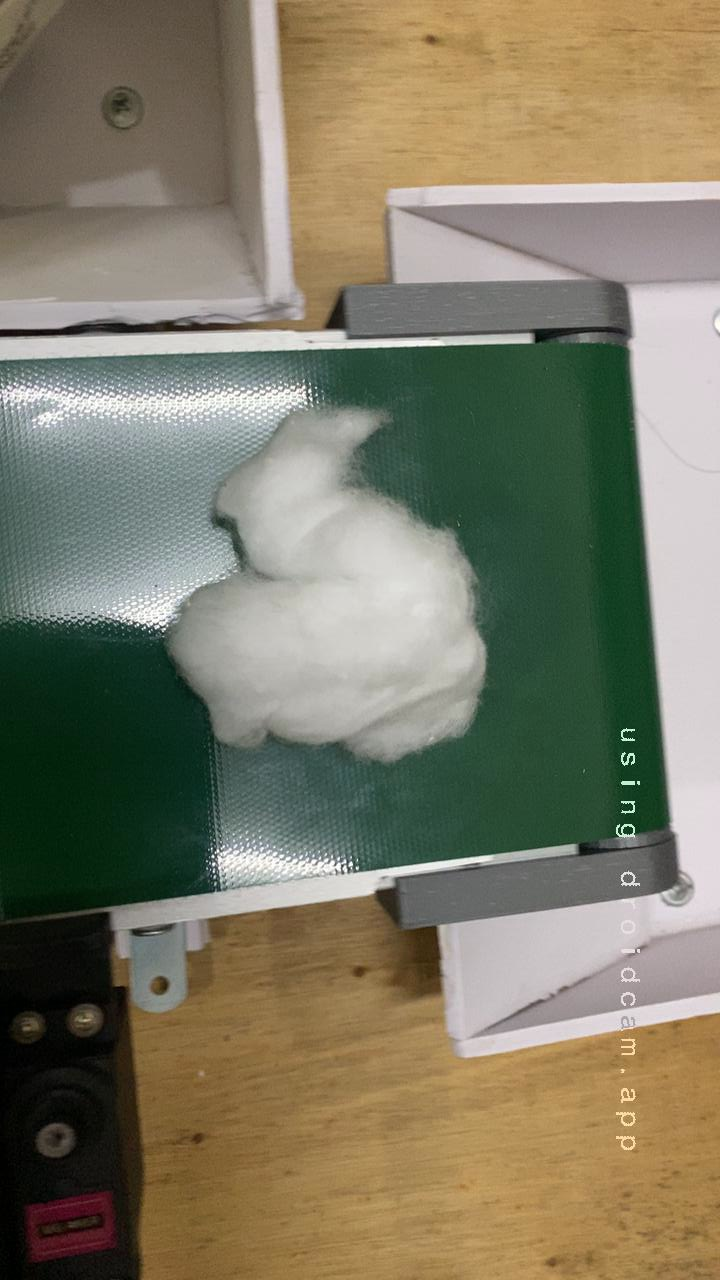cotton: (149, 379, 540, 799)
